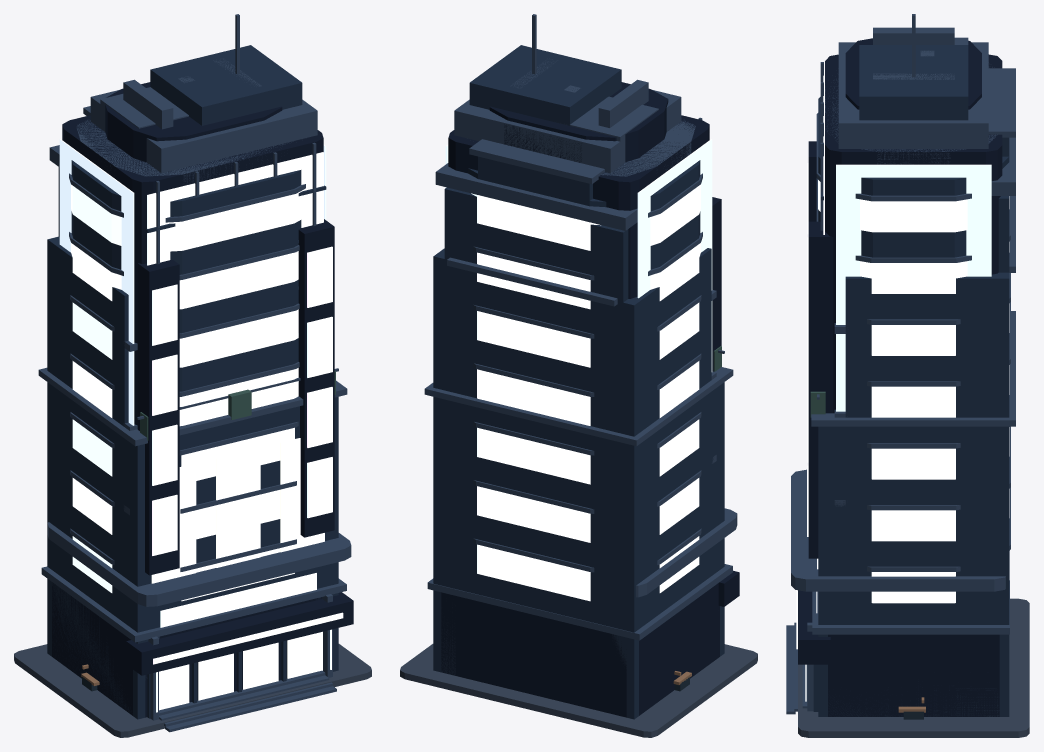
Rendered from city-kit-mobile.glb.
3 renders of one model, left to right at view 1: azimuth 30°, elevation 25°; view 2: azimuth 150°, elevation 25°; view 3: azimuth 270°, elevation 25°, orthographic. The views are drawn at different scales.
Parts seen in each view (by area): view 1: City_Rounded_Stone_mobile, City_Arcade_Stone_mobile, City_Rounded_Windows_mobile, City_Glass_Stone_mobile, City_Station_Stone_mobile, City_Terrace_Stone_mobile, City_Shop_Stone_mobile, City_Shop_Windows_mobile, City_Terrace_Windows_mobile, City_Glass_Windows_mobile, City_Arcade_Windows_mobile, City_Meeting_Stone_mobile (+1 smaller); view 2: City_Arcade_Stone_mobile, City_Rounded_Windows_mobile, City_Rounded_Stone_mobile, City_Glass_Stone_mobile, City_Shop_Stone_mobile, City_Terrace_Stone_mobile, City_Meeting_Stone_mobile, City_Station_Stone_mobile, City_Glass_Windows_mobile; view 3: City_Arcade_Stone_mobile, City_Glass_Stone_mobile, City_Rounded_Windows_mobile, City_Rounded_Stone_mobile, City_Terrace_Stone_mobile, City_Station_Stone_mobile, City_Glass_Windows_mobile, City_Shop_Stone_mobile, City_Meeting_Stone_mobile, City_Shop_Windows_mobile.
Boxes of the visible parts, x1,y1,x2,y2 form: City_Rounded_Stone_mobile: (69,58,305,613); City_Arcade_Stone_mobile: (41,76,353,720); City_Rounded_Windows_mobile: (71,184,302,601); City_Glass_Stone_mobile: (62,14,326,425); City_Station_Stone_mobile: (47,522,351,732); City_Terrace_Stone_mobile: (38,106,347,631); City_Shop_Stone_mobile: (49,87,334,575); City_Shop_Windows_mobile: (152,246,332,555); City_Terrace_Windows_mobile: (151,438,324,583); City_Glass_Windows_mobile: (59,139,326,425); City_Arcade_Windows_mobile: (153,612,343,712); City_Meeting_Stone_mobile: (14,644,371,737); City_Arcade_Stone_mobile: (427,85,739,717); City_Rounded_Windows_mobile: (471,184,700,601); City_Rounded_Stone_mobile: (468,58,702,572); City_Glass_Stone_mobile: (448,14,709,298); City_Shop_Stone_mobile: (435,96,721,447); City_Terrace_Stone_mobile: (424,124,733,632); City_Meeting_Stone_mobile: (400,644,757,737); City_Station_Stone_mobile: (433,508,737,719); City_Glass_Windows_mobile: (445,133,712,371); City_Arcade_Stone_mobile: (798,50,1009,716); City_Glass_Stone_mobile: (820,14,1002,413); City_Rounded_Windows_mobile: (818,180,1009,603); City_Rounded_Stone_mobile: (816,27,1010,624); City_Terrace_Stone_mobile: (810,68,1015,624); City_Station_Stone_mobile: (786,469,1009,716); City_Glass_Windows_mobile: (823,70,991,411); City_Shop_Stone_mobile: (808,37,1015,558); City_Meeting_Stone_mobile: (798,598,1029,737); City_Shop_Windows_mobile: (807,163,808,536).
Size of the model in its own units: 23 by 55 by 17.85.
